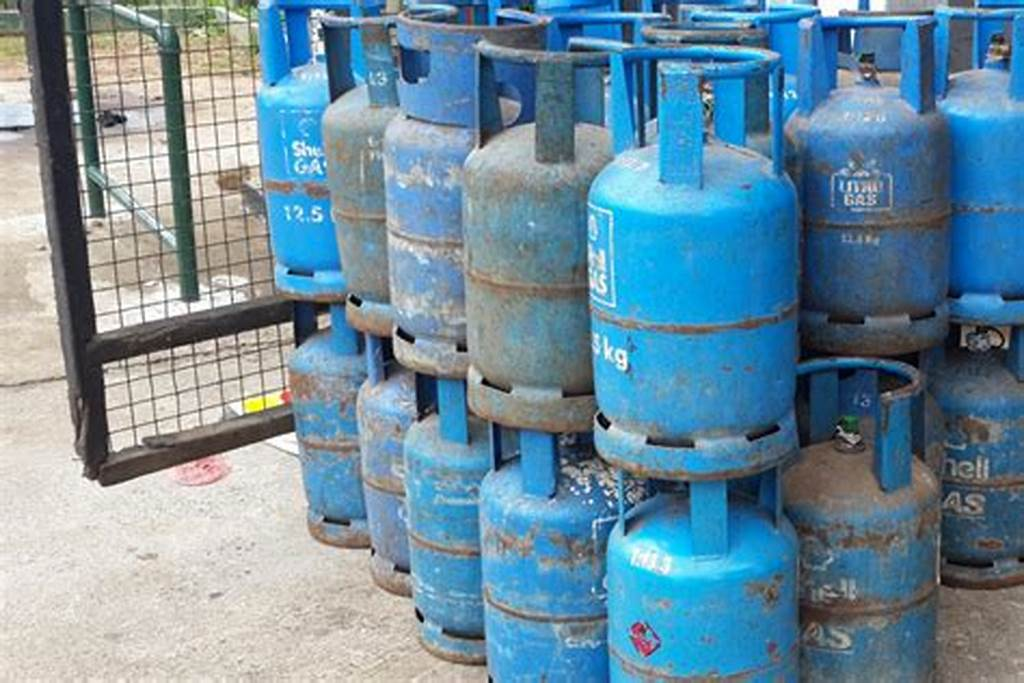blue_gas: (588, 42, 801, 479), (464, 34, 649, 436), (386, 12, 551, 374), (785, 11, 948, 359), (766, 359, 941, 683), (606, 460, 800, 683), (403, 376, 528, 664), (483, 418, 612, 683), (927, 7, 1024, 328), (318, 7, 406, 331), (922, 325, 1024, 591), (251, 1, 336, 303), (355, 323, 444, 598), (283, 299, 371, 551)
